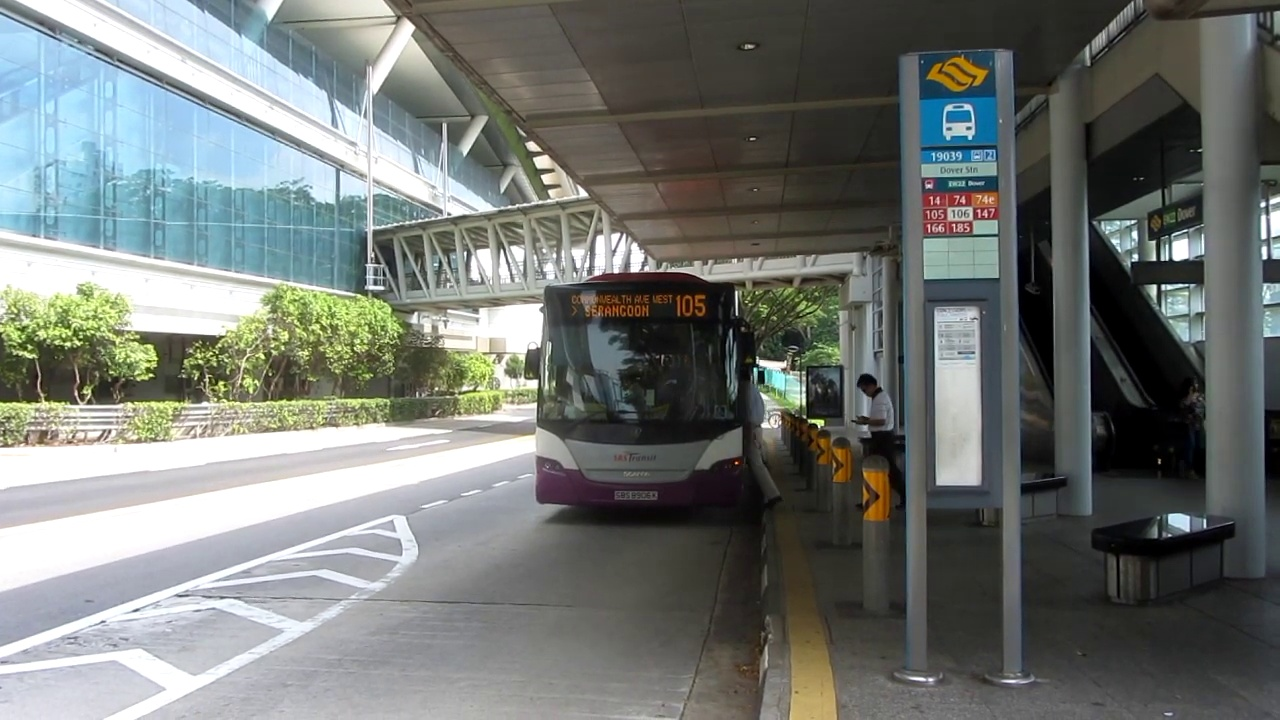bus panel: (566, 292, 711, 321)
